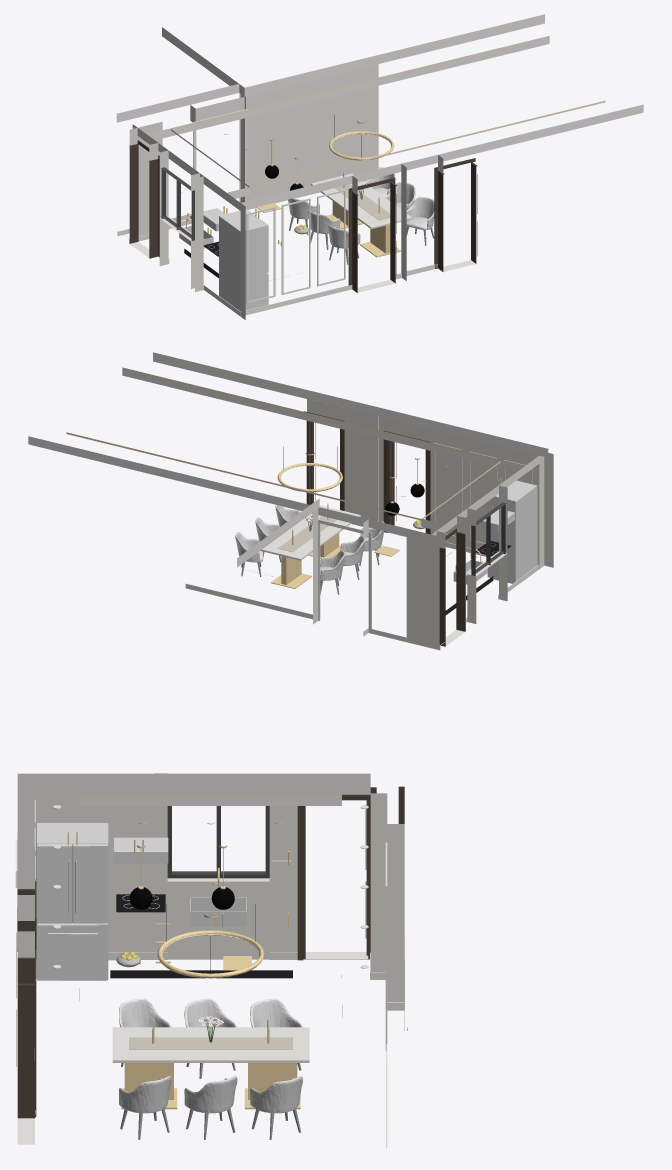
File: KITDIN.glb
3 views of the same model, one above another, from view 1: azimuth 30°, elevation 25°; view 2: azimuth 150°, elevation 25°; view 3: azimuth 270°, elevation 25° (orthographic). The views are drawn at different scales.
Visible parts, largest first — view 1: WEB_KITDIN; view 2: WEB_KITDIN; view 3: WEB_KITDIN.
Boxes of the visible parts, <box> form: WEB_KITDIN: <box>116,14,643,319</box>; WEB_KITDIN: <box>28,352,553,650</box>; WEB_KITDIN: <box>15,773,407,1148</box>.
Bounding box in the file's own units: 12.09 × 2.7 × 7.84.
